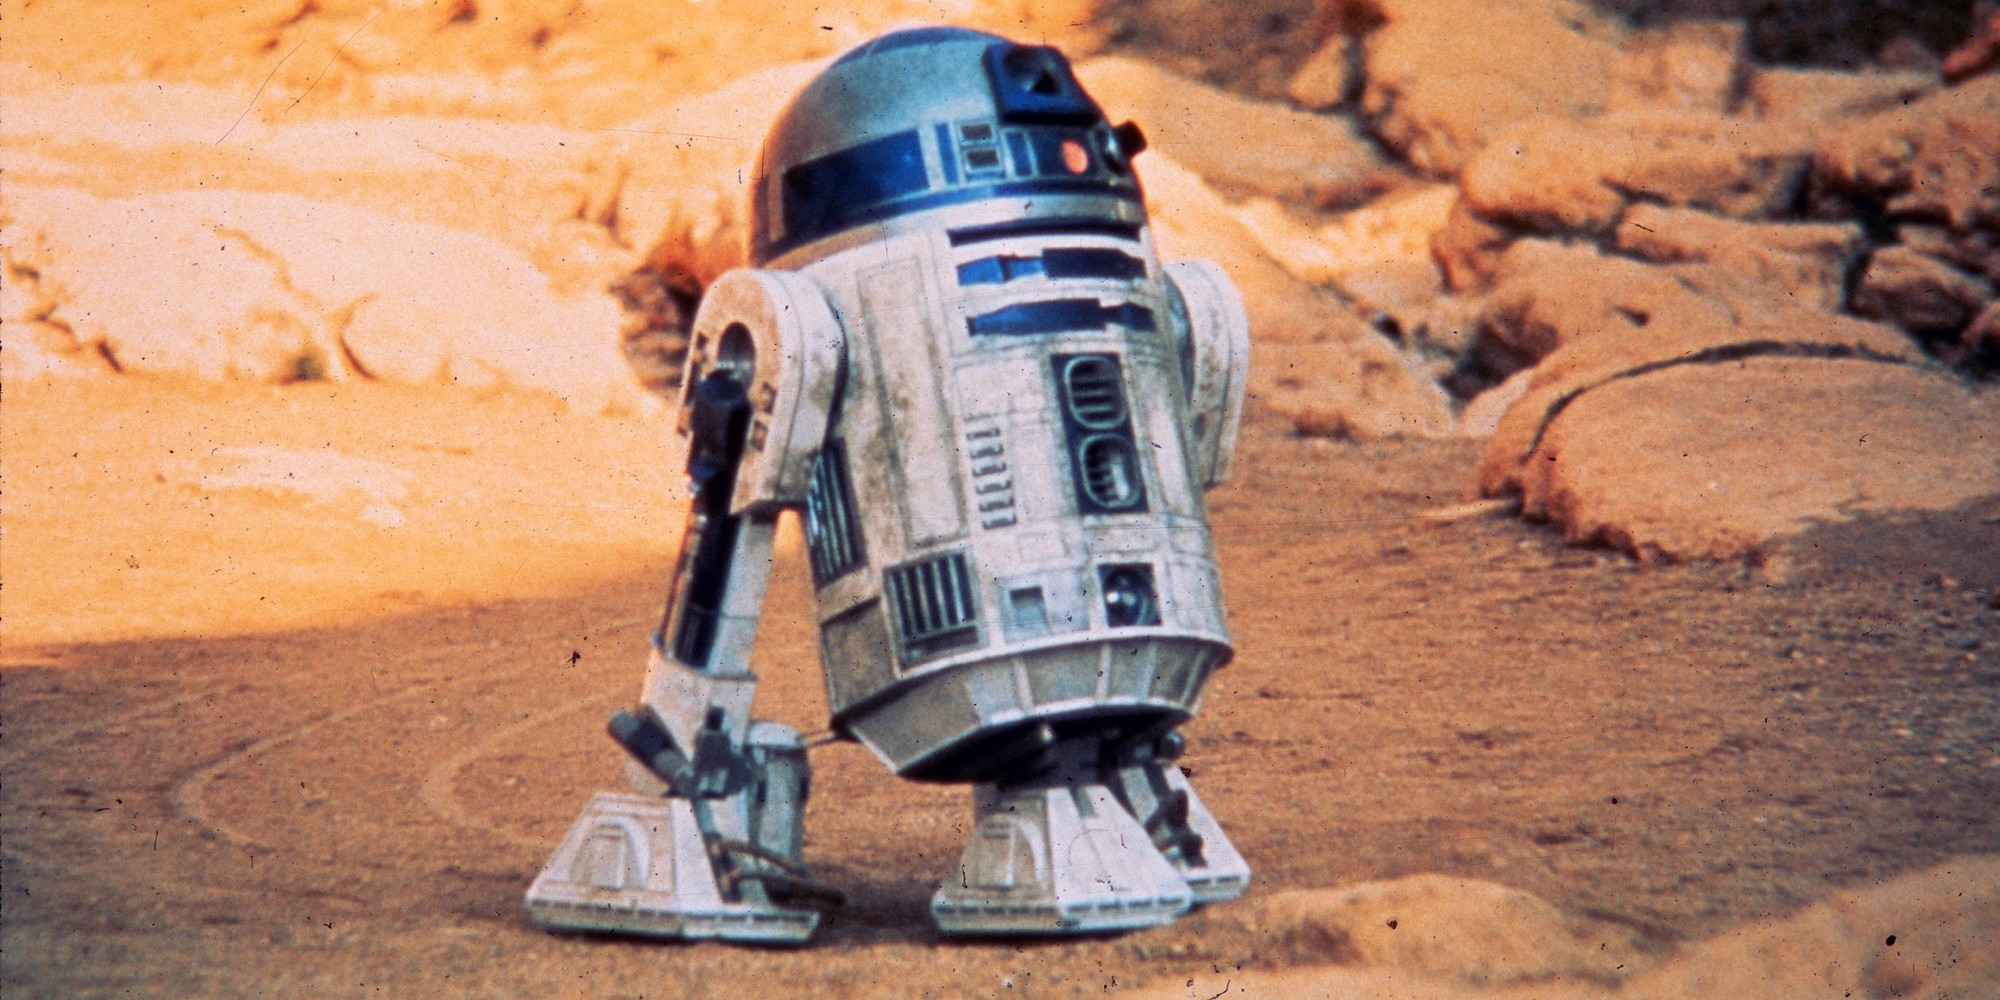r2d2: (513, 28, 1256, 943)
